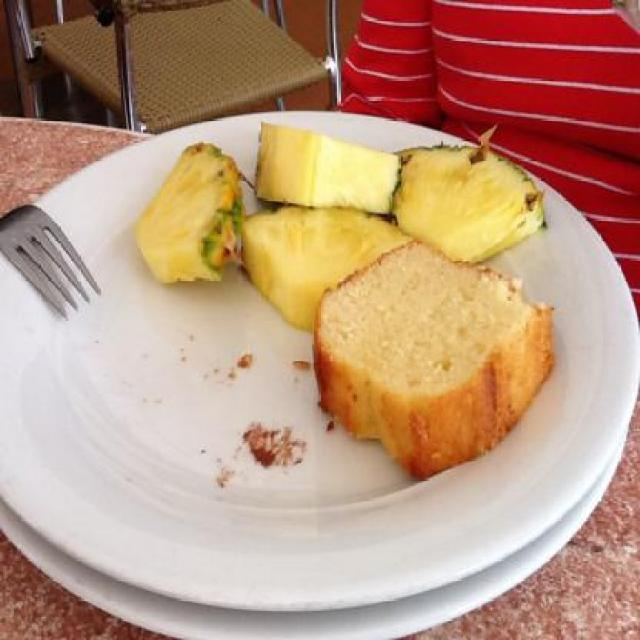Pineapple: (390, 121, 552, 262), (241, 202, 413, 333), (250, 114, 408, 229), (131, 143, 252, 288)
